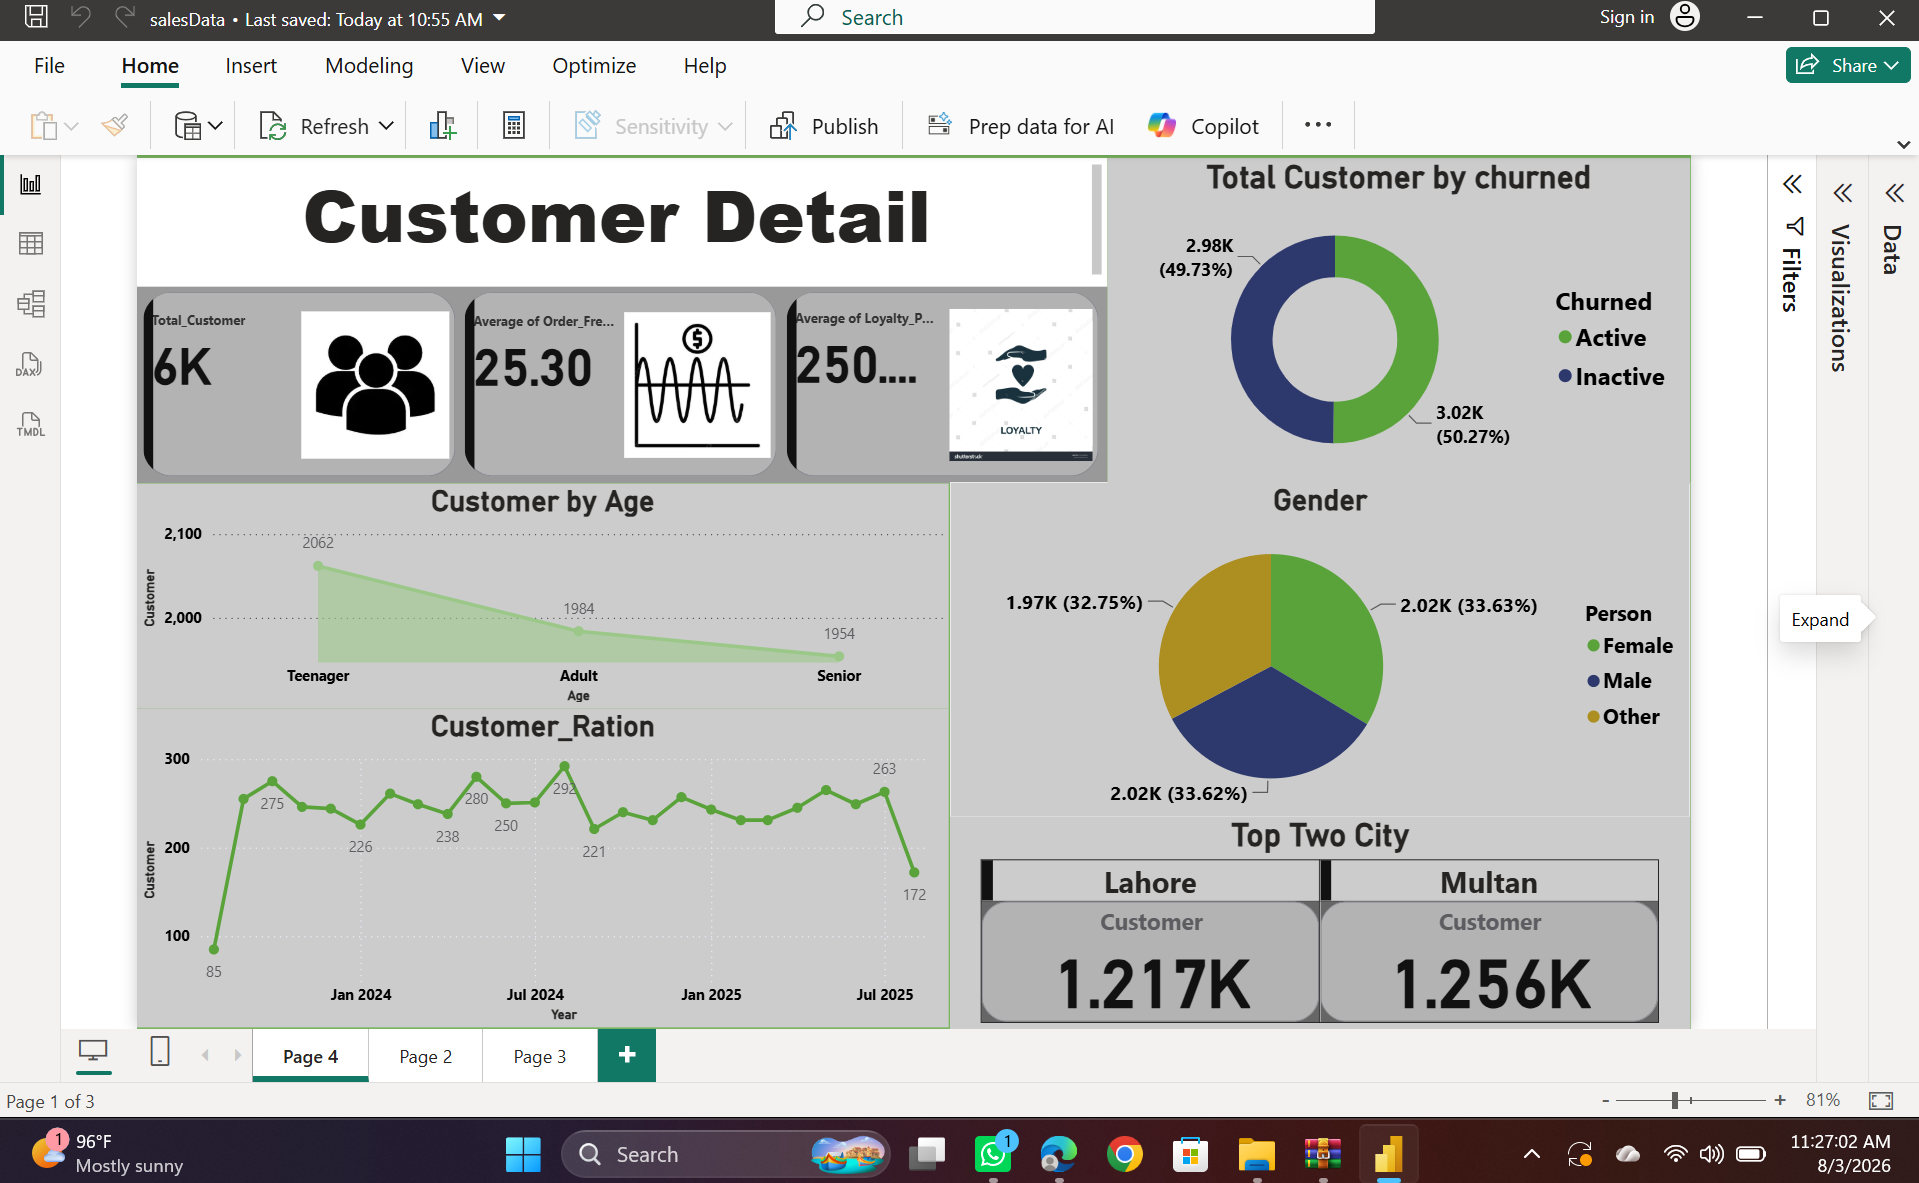

This screenshot's page, from the dashboard's own definition file:
{"tool":"powerbi","page":{"name":"Page 4","canvas":[1280,720],"ordinal":0},"visuals":[{"type":"cardVisual","fields":{"Data":["Count(foodpandas.customer_id)","Avg(foodpandas.order_frequency)","Avg(foodpandas.loyalty_points)"]},"box":[0,107.7,799.4,162.5],"z":0},{"type":"pieChart","title":" Gender ","fields":{"Category":["foodpandas.gender"],"Y":["CountNonNull(foodpandas.gender)"]},"box":[669.3,269.5,610.2,275.6],"z":1000},{"type":"lineChart","title":"Customer_Ration","fields":{"Y":["Count(foodpandas.customer_id)"],"Category":["foodpandas.signup_date.Variation.Date Hierarchy.Year","foodpandas.signup_date.Variation.Date Hierarchy.Quarter","foodpandas.signup_date.Variation.Date Hierarchy.Month"]},"box":[0,455.4,669,262.7],"z":2000},{"type":"areaChart","fields":{"Category":["foodpandas.age"],"Y":["CountNonNull(foodpandas.customer_id)"]},"box":[0,270.2,669,185.2],"z":3000},{"type":"cardVisual","title":"Top Two City","fields":{"Rows":["foodpandas.city"],"Data":["Count(foodpandas.customer_id)"]},"box":[669.3,545.1,610.2,175.6],"z":4000},{"type":"donutChart","fields":{"Category":["foodpandas.churned"],"Y":["CountNonNull(foodpandas.customer_id)"]},"box":[799.4,1.9,480,268.3],"z":5000},{"type":"textbox","box":[0,1.9,799.4,105.8],"z":6000}]}

Visuals, with their boxes on the page's 1280x720 design canvas (x1, y1, x2, y2). These are canvas units, not pixel positions in the 1919x1183 screenshot, which may show the page scaled, cropped or inside an application window:
cardVisual - Count(foodpandas.customer_id) x Avg(foodpandas.order_frequency): x1=0 y1=108 x2=799 y2=270
" Gender " pieChart: x1=669 y1=270 x2=1280 y2=545
"Customer_Ration" lineChart: x1=0 y1=455 x2=669 y2=718
areaChart - foodpandas.age x CountNonNull(foodpandas.customer_id): x1=0 y1=270 x2=669 y2=455
"Top Two City" cardVisual: x1=669 y1=545 x2=1280 y2=721
donutChart - foodpandas.churned x CountNonNull(foodpandas.customer_id): x1=799 y1=2 x2=1279 y2=270
textbox: x1=0 y1=2 x2=799 y2=108
